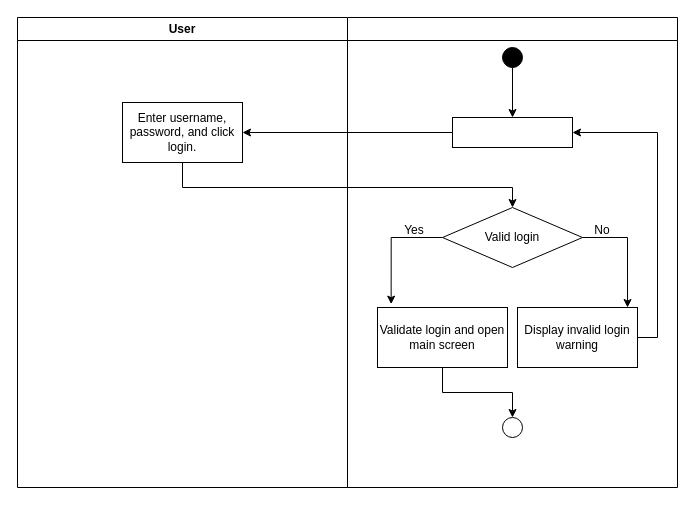
The diagram is 695 pixels wide and 505 high, and some of its shapes have lost their labels. The shapes that lost their labels are listed below. From the top down, each one's box as (x1, y1, x2, y2) in pixels, then its label:
(452, 116, 572, 148): Open login screen
(346, 16, 678, 488): ProntoAjuda
